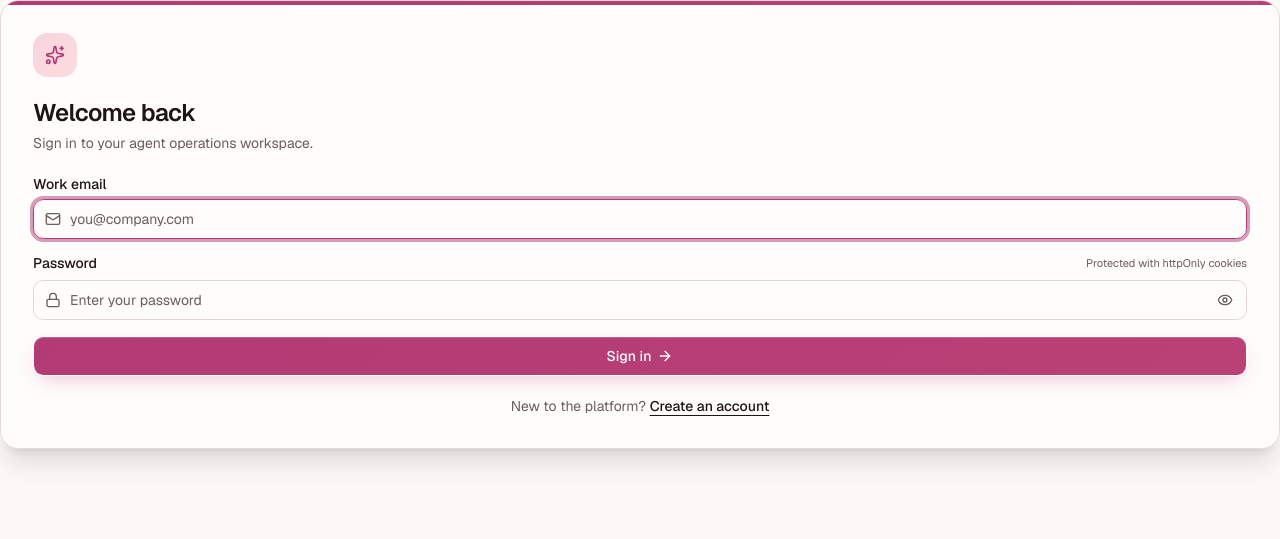
Test case: login page › shows validation messages and does not submit an empty form
The image size is (1280, 539).
Click the button "Sign in" at coordinates (640, 356), box [33,336,1247,376]
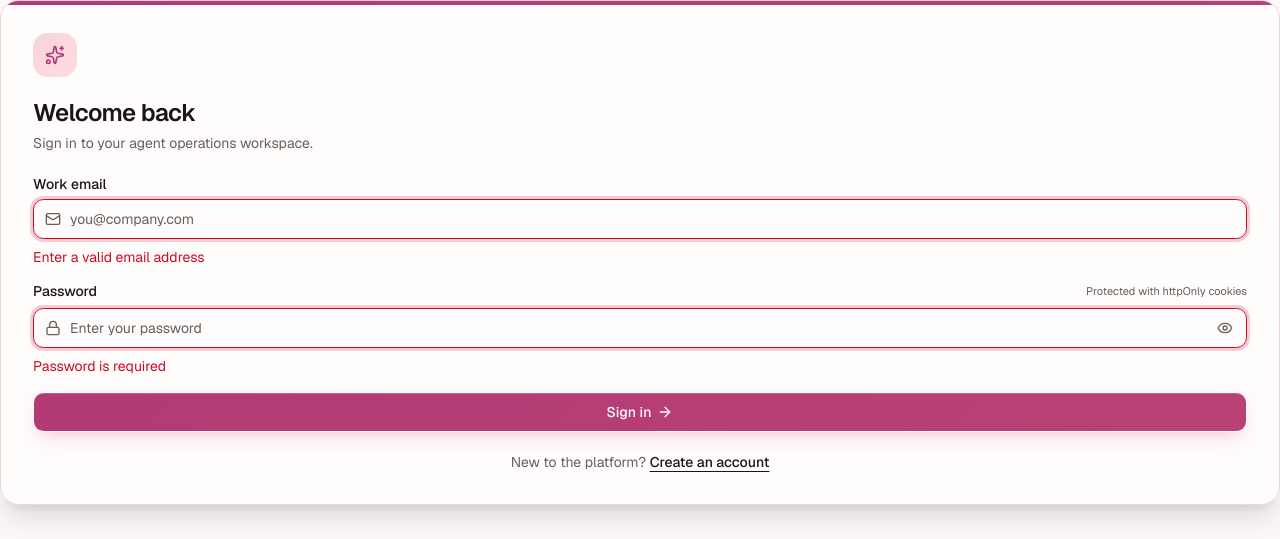
expect the text "Enter a valid email address" is shown: met, box [33,248,205,266]
expect the text "Password is required" is shown: met, box [33,356,166,374]
